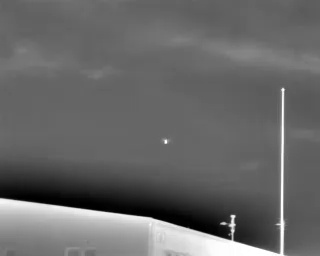HELICOPTER: (159, 136, 173, 147)
